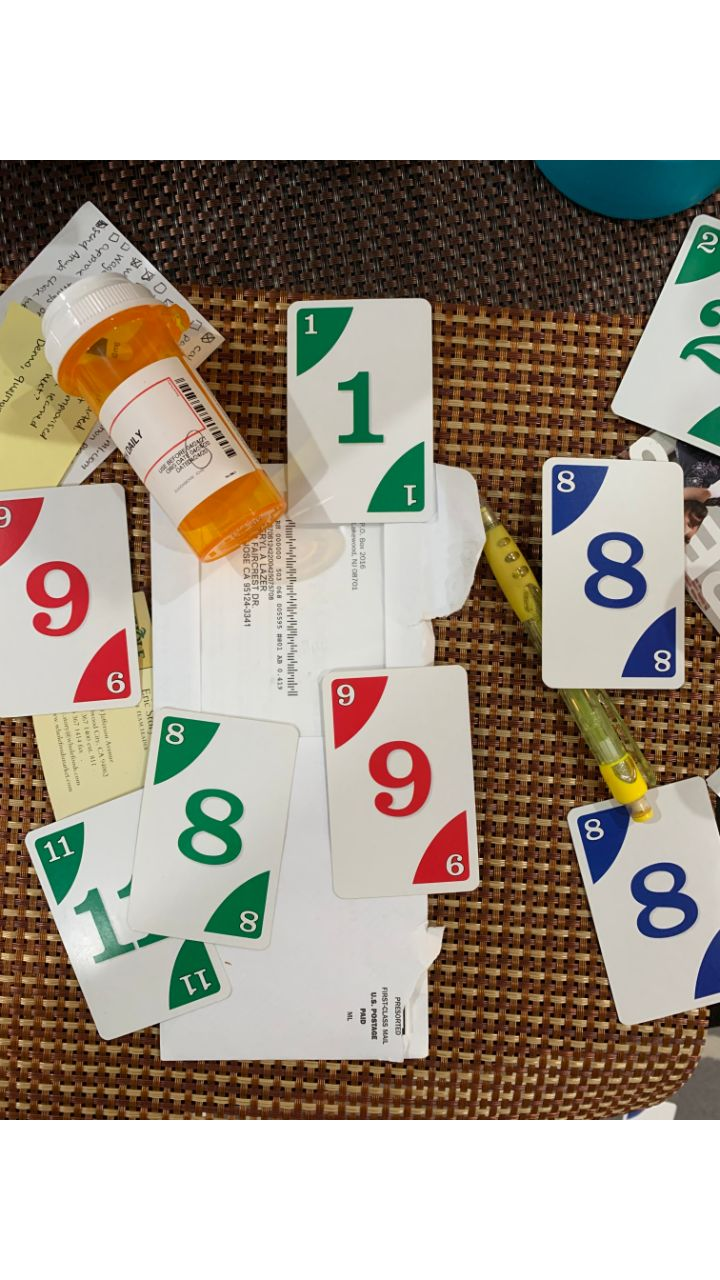eight: (129, 711, 300, 947), (569, 775, 720, 1024), (540, 455, 686, 692)
eleven: (24, 789, 224, 1042)
nine: (324, 664, 483, 899), (1, 488, 138, 716)
one: (285, 295, 438, 523)
